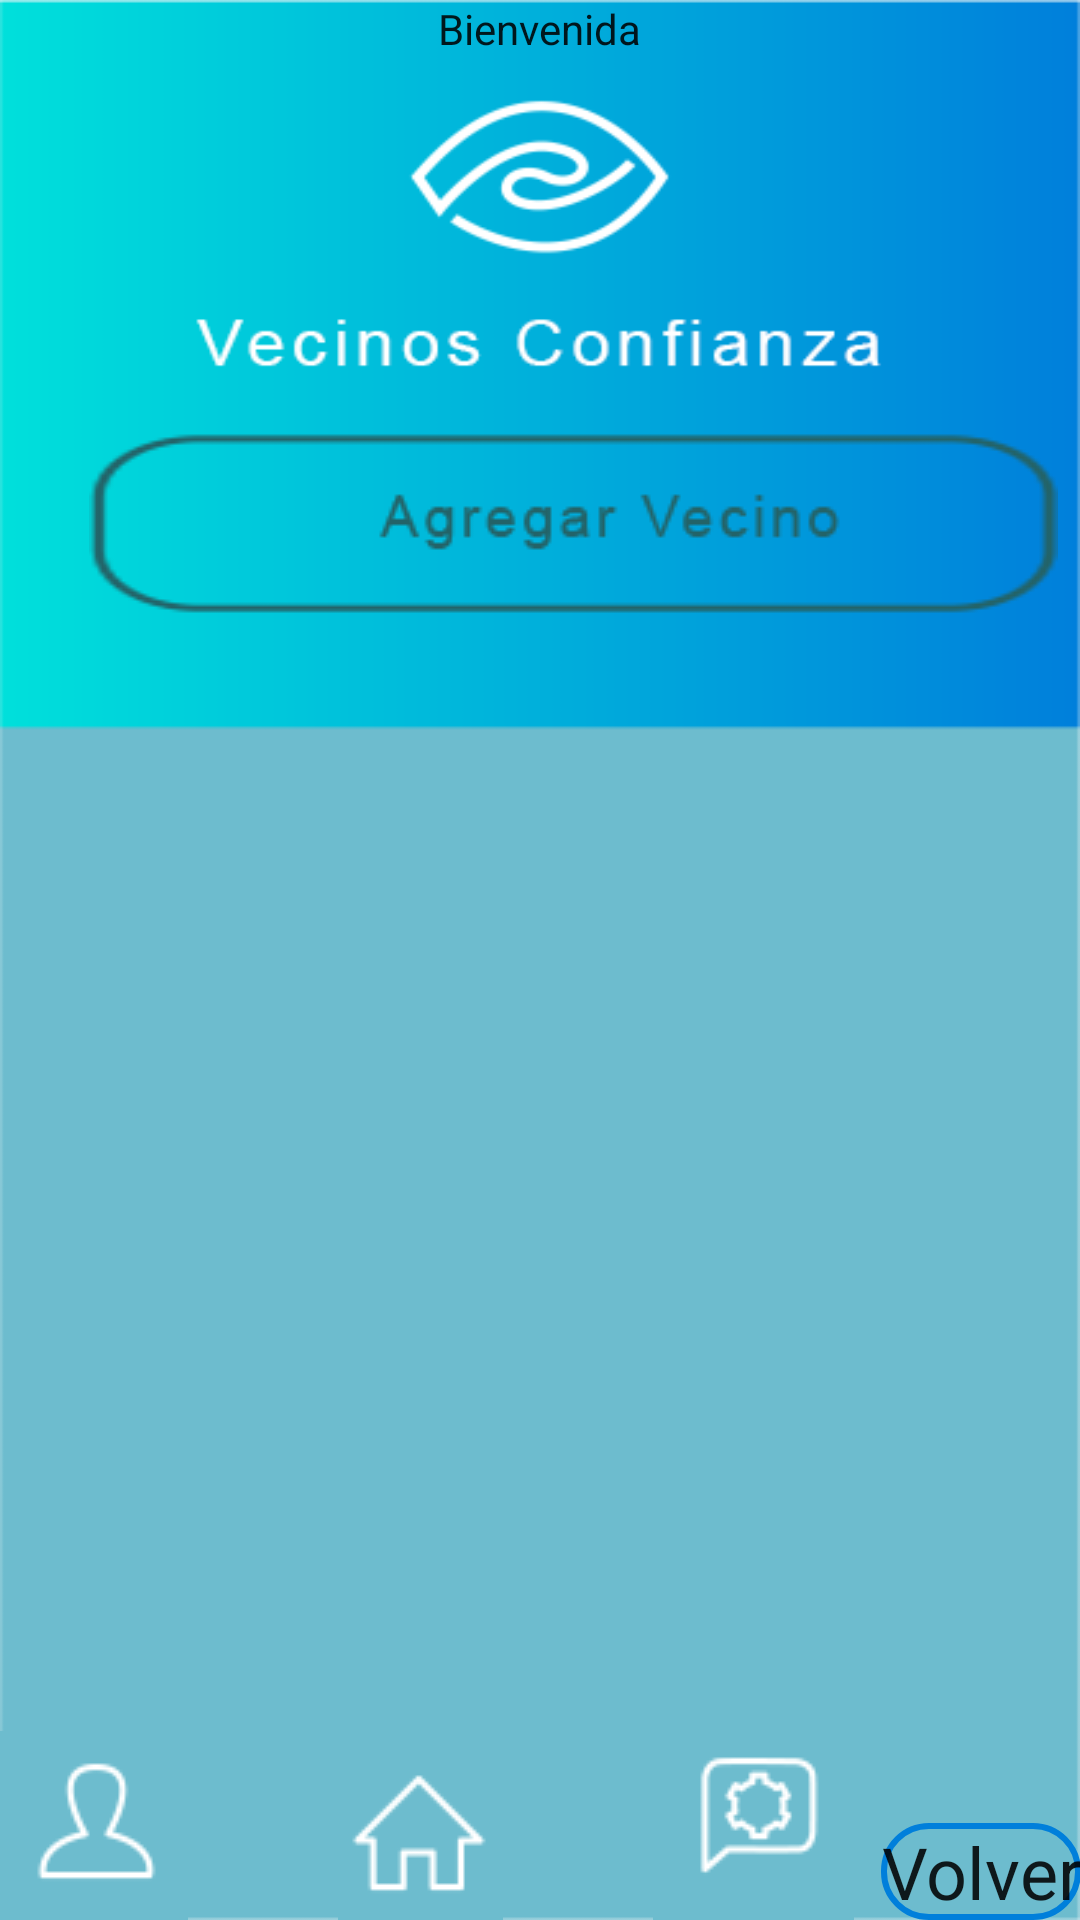

Where icons sit on this 1080*1920 app screen, as (x1, y1, x2, y2):
menuprincipal inicio: (353, 1775, 485, 1891)
menuprincipal notificaciones: (700, 1757, 818, 1873)
menuprincipal perfil: (38, 1763, 155, 1879)
